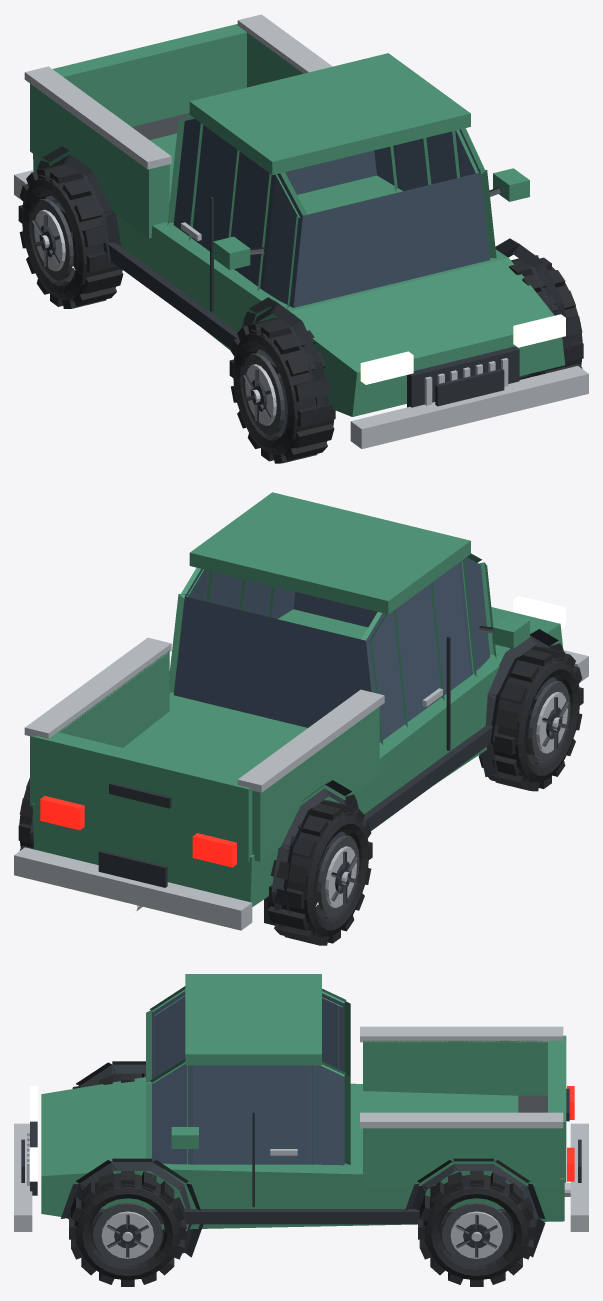
The model's file is car-truck.glb.
The picture shows the model from 3 angles, top to bottom: view 1: azimuth 30°, elevation 25°; view 2: azimuth 150°, elevation 25°; view 3: azimuth 270°, elevation 25°; orthographic projection. The views are drawn at different scales.
Visible parts, largest first — view 1: body-detail, wheel-front-left, wheel-back-left, wheel-front-right; view 2: body-detail, wheel-back-left, wheel-front-left, wheel-back-right; view 3: body-detail, wheel-front-right, wheel-back-right.
Part boxes in pixels (left/top/right/bottom): body-detail: left=14, top=14, right=588, bottom=448; wheel-front-left: left=229, top=318, right=335, bottom=463; wheel-back-left: left=18, top=163, right=123, bottom=308; wheel-front-right: left=509, top=255, right=583, bottom=379; body-detail: left=14, top=492, right=588, bottom=931; wheel-back-left: left=266, top=800, right=372, bottom=945; wheel-front-left: left=478, top=645, right=583, bottom=791; wheel-back-right: left=18, top=778, right=33, bottom=850; body-detail: left=14, top=974, right=588, bottom=1257; wheel-front-right: left=69, top=1171, right=186, bottom=1286; wheel-back-right: left=418, top=1171, right=535, bottom=1286.
Size of the model in its own units: 1.93 by 1.57 by 3.79.
